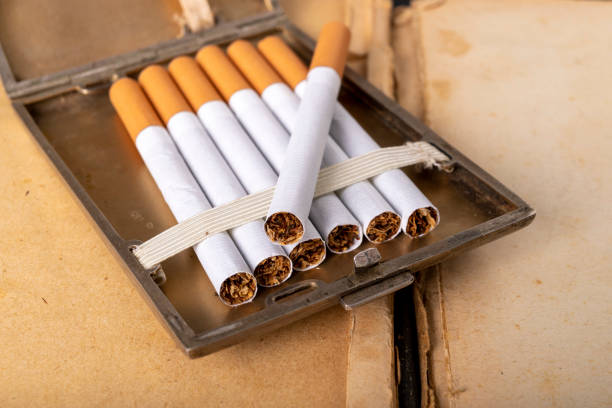cigarette: (257, 36, 440, 240), (226, 40, 403, 242), (194, 43, 363, 254), (138, 64, 292, 288), (167, 56, 326, 272), (108, 78, 256, 305), (262, 21, 355, 246)
